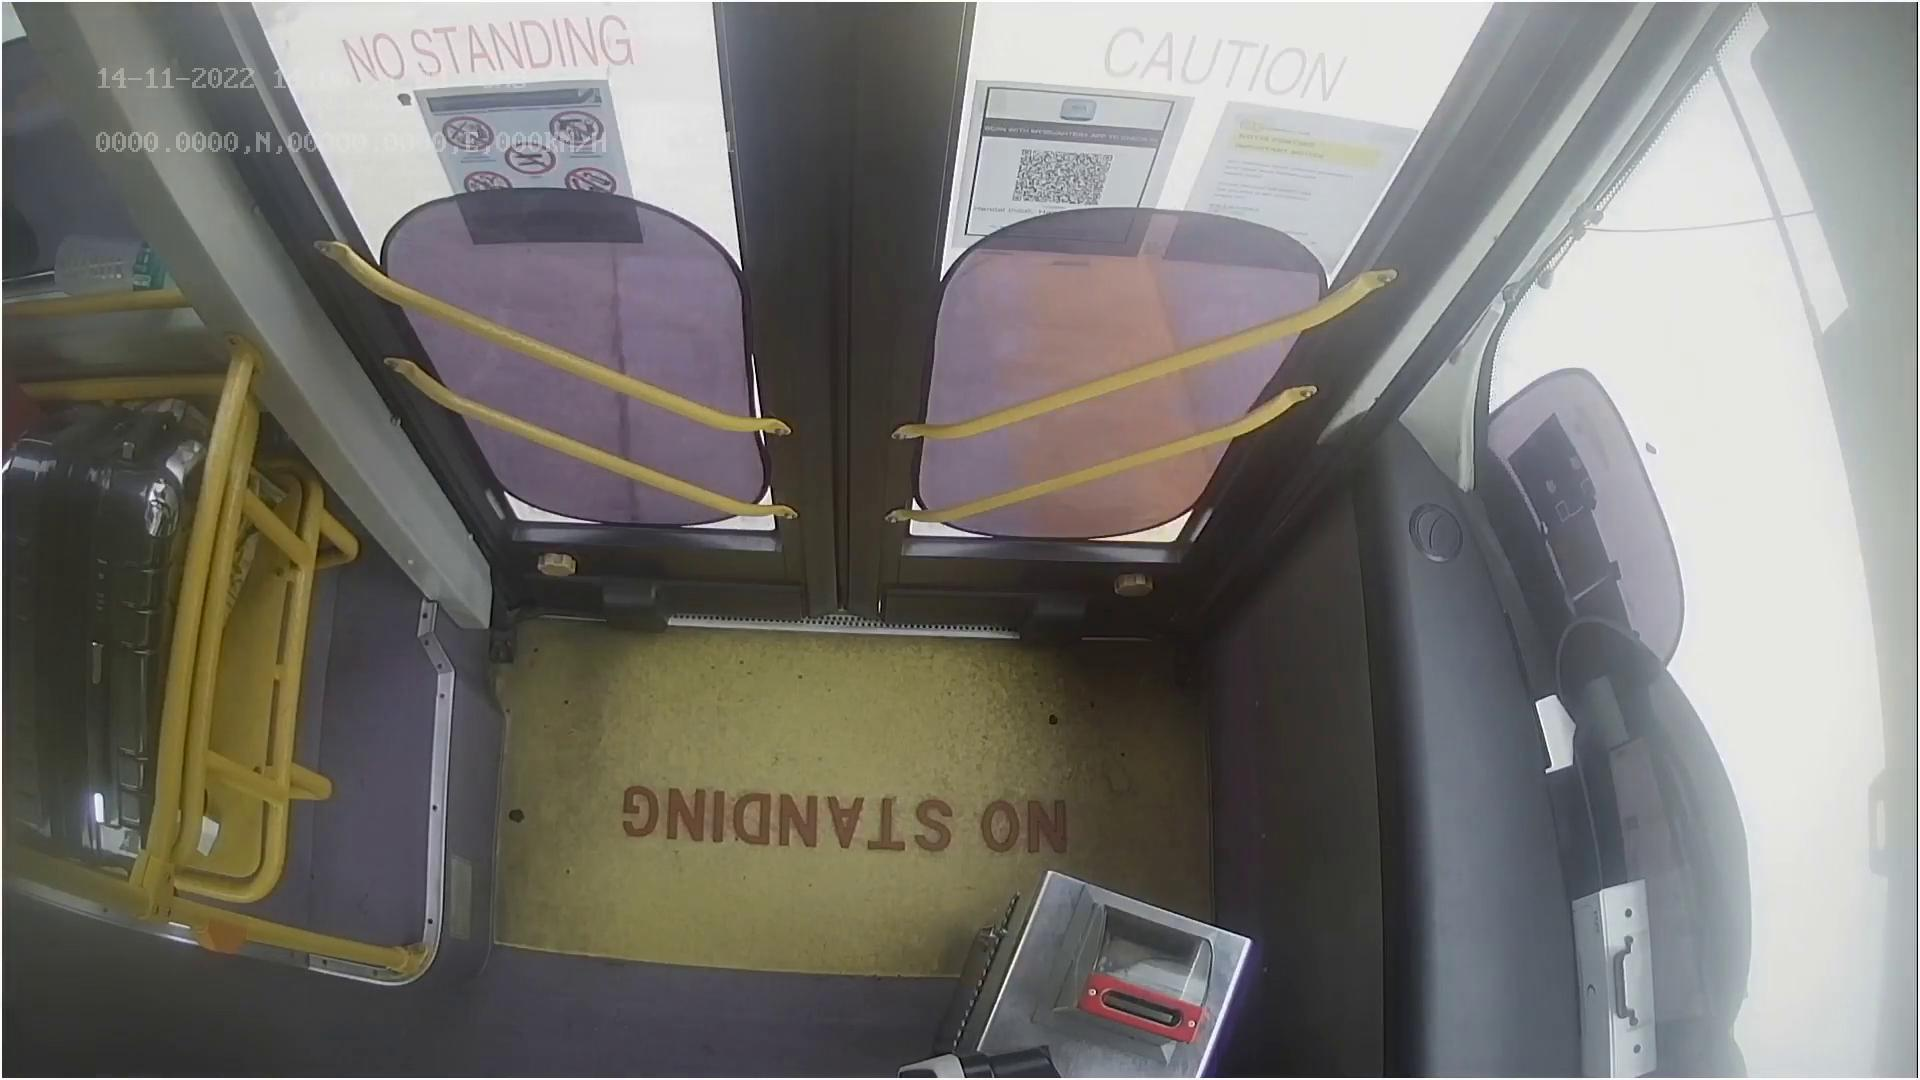close: (284, 0, 1440, 164)
